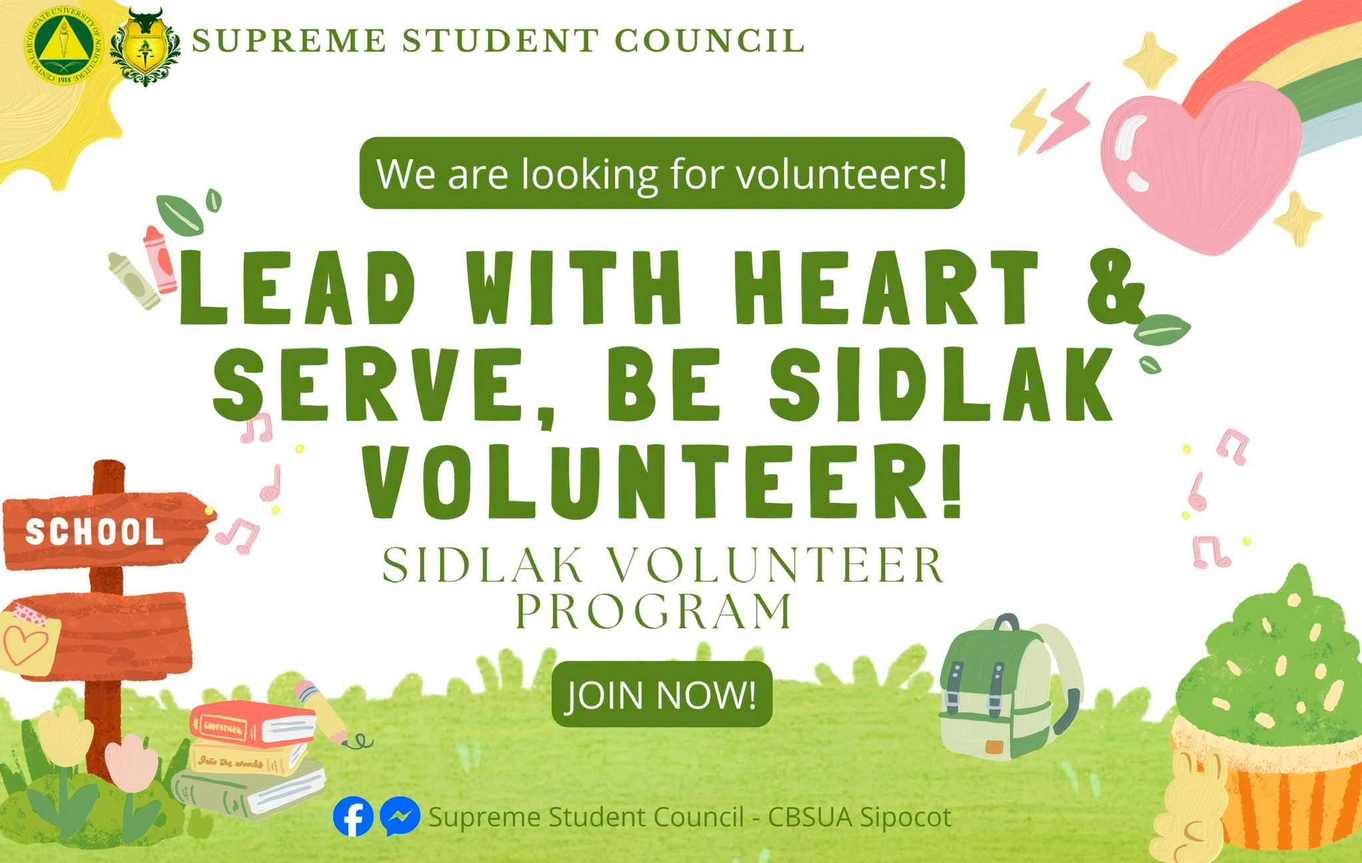embellishment: (0, 454, 224, 784), (376, 791, 426, 841), (329, 791, 376, 840)
logo: (21, 2, 105, 88), (108, 0, 182, 89)
text: (156, 231, 1166, 636), (372, 148, 954, 201), (183, 18, 811, 60), (426, 801, 959, 835), (561, 675, 764, 719)
underlay: (359, 137, 964, 210), (552, 659, 774, 729)
